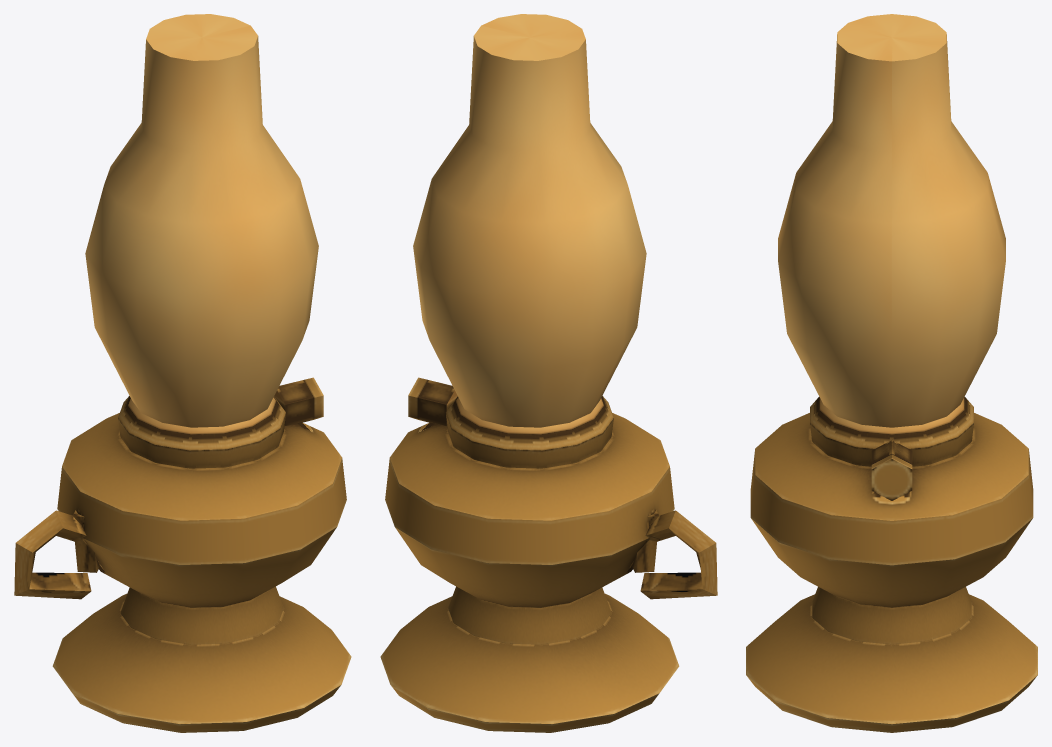
File: Oil_Lamp_01.glb
The picture shows the model from 3 angles, left to right: view 1: azimuth 30°, elevation 25°; view 2: azimuth 150°, elevation 25°; view 3: azimuth 270°, elevation 25°; orthographic projection.
Visible parts, largest first — view 1: Oil_Lamp_01; view 2: Oil_Lamp_01; view 3: Oil_Lamp_01.
Part boxes in pixels (x1,y1,x2,y2): Oil_Lamp_01: [14, 14, 351, 732]; Oil_Lamp_01: [380, 14, 717, 732]; Oil_Lamp_01: [746, 14, 1037, 732].
Bounding box in the file's own units: 0.1566 × 0.3 × 0.1248.
1 material, 1 textured.
